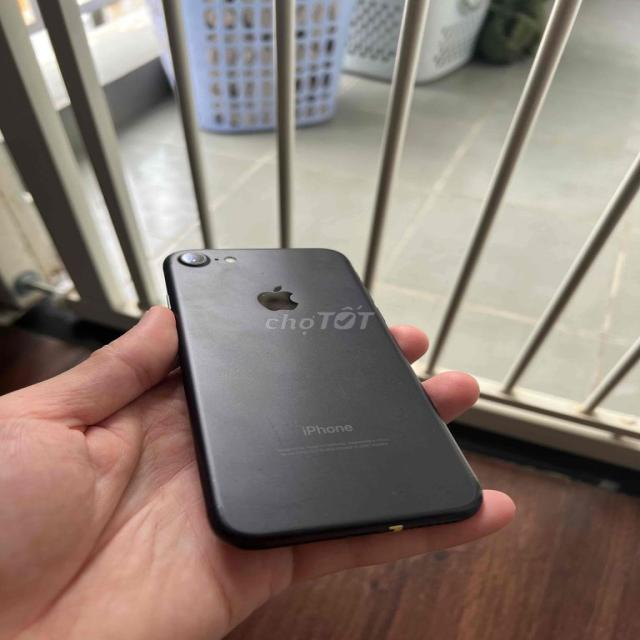gen_7_8: (160, 243, 484, 552)
scratch: (178, 246, 211, 268)
